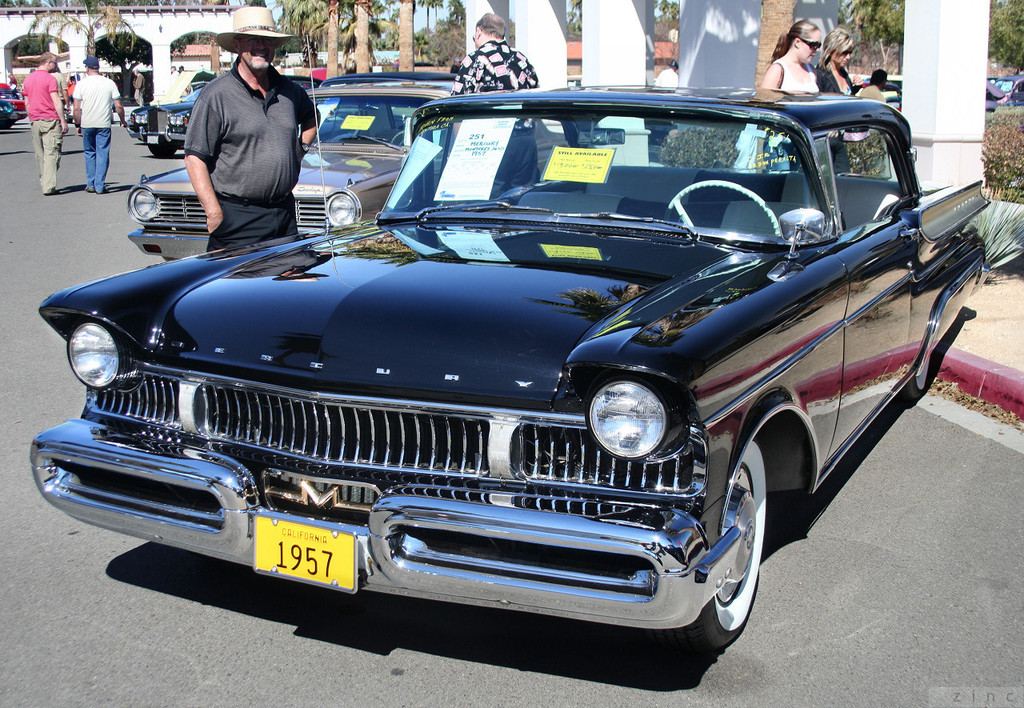car: (17, 82, 1014, 657), (127, 82, 458, 261), (143, 67, 218, 157), (986, 77, 1024, 109), (0, 92, 26, 128), (127, 105, 151, 140), (0, 98, 17, 129), (0, 94, 11, 127)
